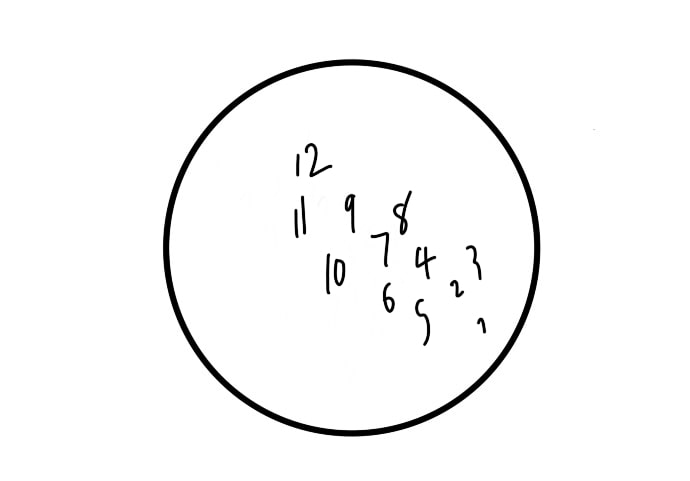eight: (391, 188, 411, 235)
eleven: (288, 194, 309, 238)
five: (412, 296, 432, 347)
four: (413, 240, 437, 284)
nine: (341, 186, 361, 238)
one: (475, 314, 490, 338)
seven: (369, 230, 393, 271)
six: (381, 280, 397, 316)
ten: (321, 243, 349, 299)
three: (462, 240, 486, 281)
twelve: (294, 138, 333, 181)
two: (450, 277, 467, 299)
